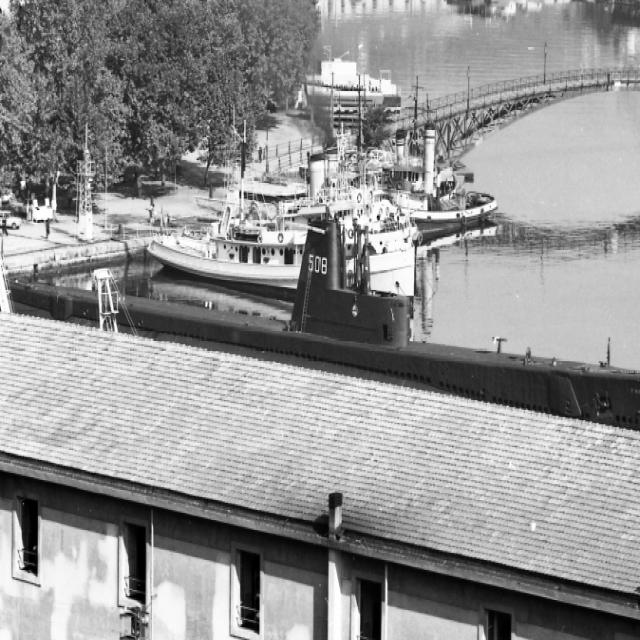submarine: (1, 214, 640, 454)
